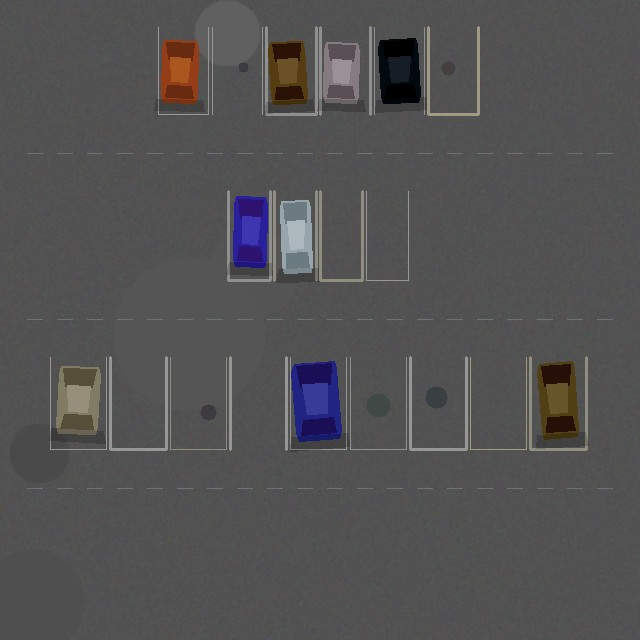space-empty: (110, 357, 166, 449), (170, 357, 226, 449), (230, 357, 286, 449), (350, 357, 406, 449), (410, 357, 466, 449), (470, 357, 526, 449), (212, 27, 262, 114), (428, 27, 478, 114), (320, 191, 362, 280), (366, 191, 408, 280)
space-occupied: (50, 357, 106, 449), (290, 357, 346, 449), (530, 357, 586, 449), (158, 27, 208, 114), (266, 27, 316, 114), (320, 27, 370, 114), (374, 27, 424, 114), (228, 191, 270, 280), (274, 191, 316, 280)
